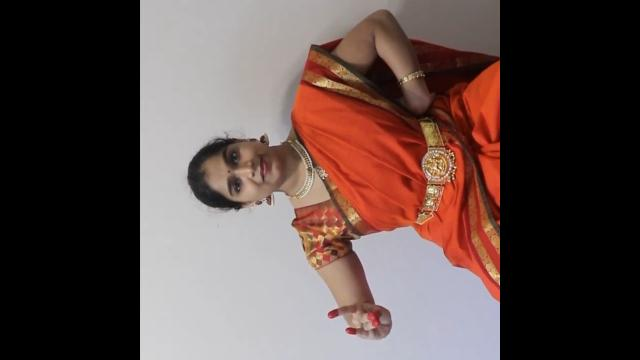sinhamukh: (324, 276, 410, 348)
